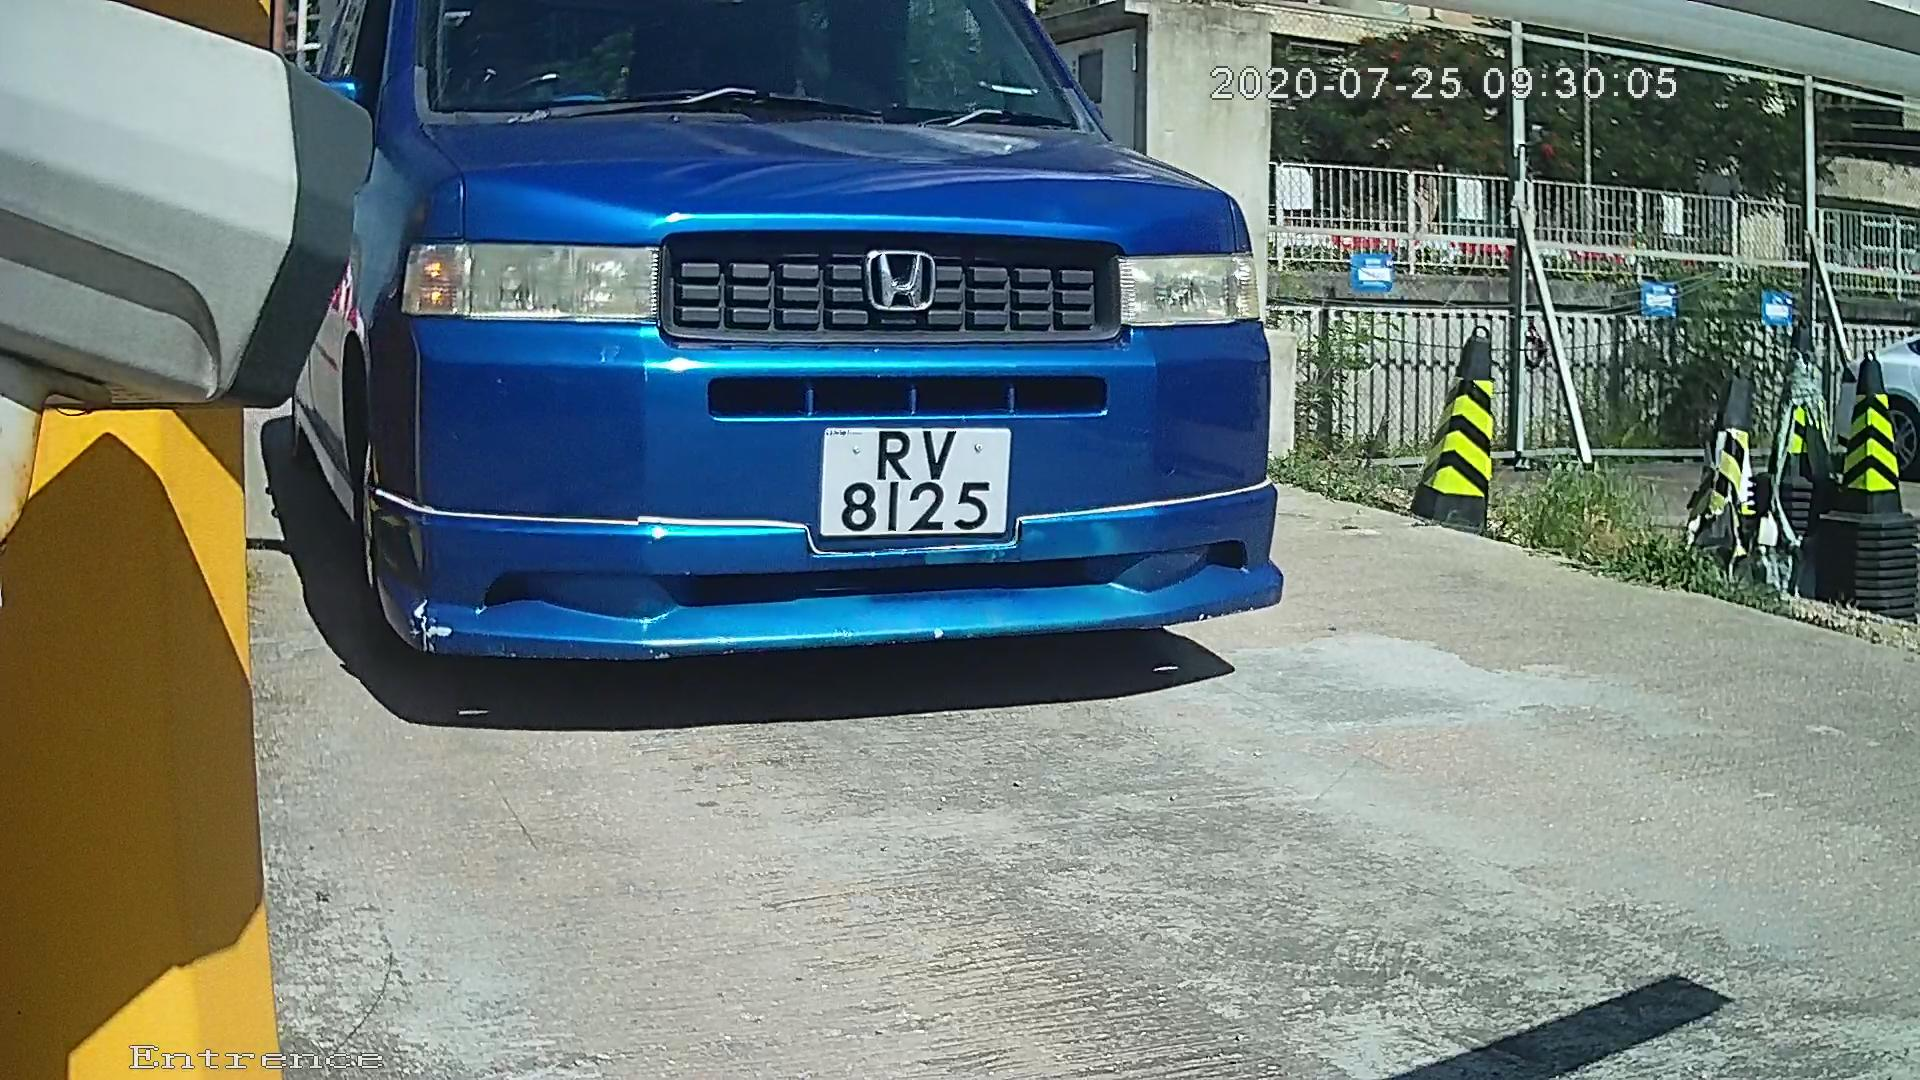License Plate: (798, 415, 1038, 560)
